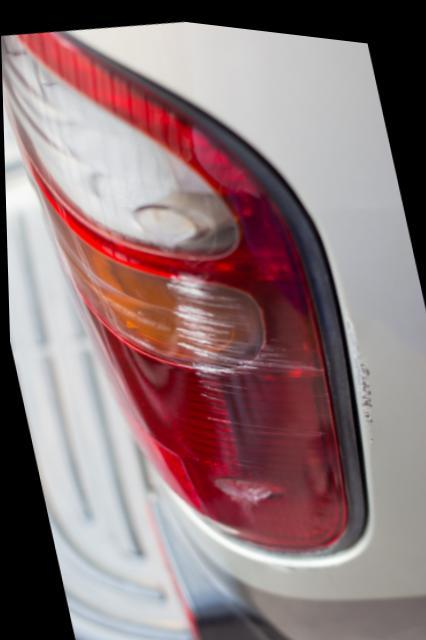scratch: (166, 259, 309, 469), (342, 320, 377, 435)
